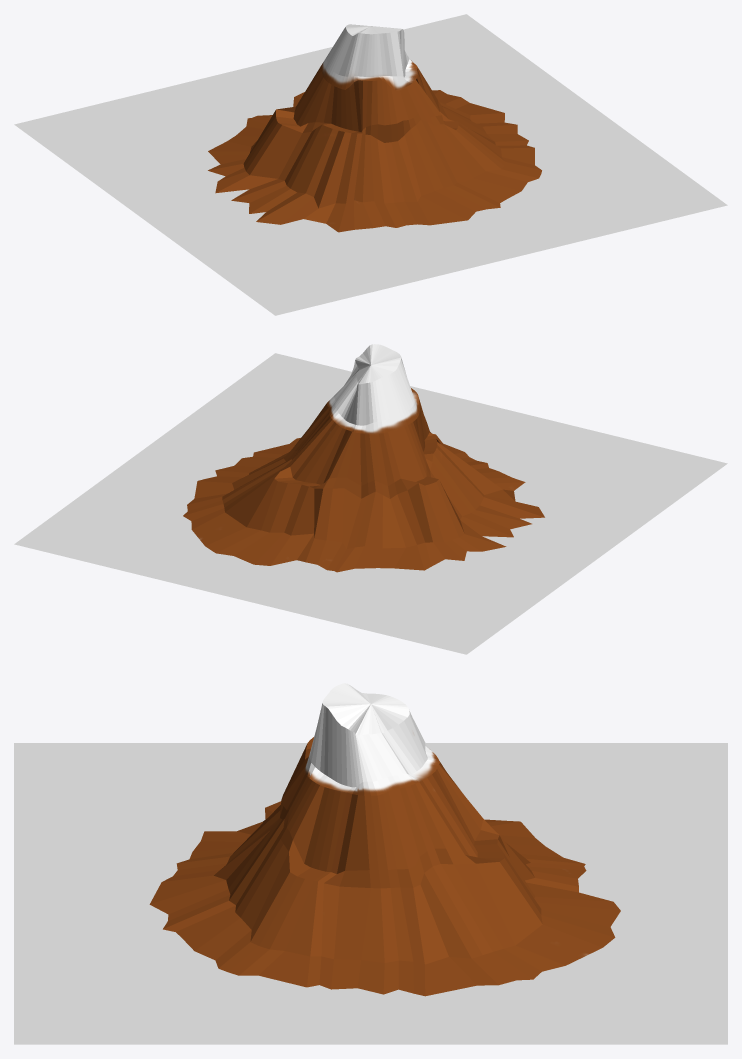
Rendered from mountain.fbx.
3 renders of one model, top to bottom at view 1: azimuth 30°, elevation 25°; view 2: azimuth 150°, elevation 25°; view 3: azimuth 270°, elevation 25°, orthographic. The views are drawn at different scales.
Parts seen in each view (by area): view 1: Plane, Cone; view 2: Plane, Cone; view 3: Plane, Cone.
Boxes of the visible parts, <box> form: Plane: <box>14,14,727,315</box>; Cone: <box>208,24,541,232</box>; Plane: <box>14,353,727,654</box>; Cone: <box>183,344,544,572</box>; Plane: <box>14,743,727,1044</box>; Cone: <box>149,683,620,996</box>.
Size of the model in its own units: 21000 by 6390 by 21000.
2 materials, 1 textured.
